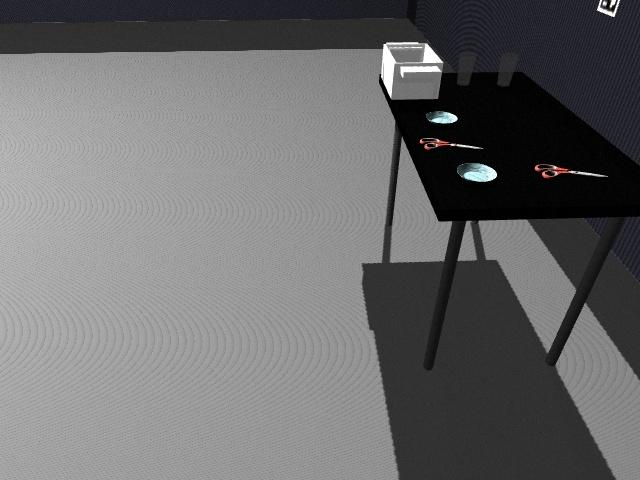cup: (496, 52, 519, 88), (456, 51, 477, 87)
plate: (457, 162, 499, 182), (426, 110, 460, 124)
scissors: (533, 163, 606, 180), (420, 137, 483, 151)
